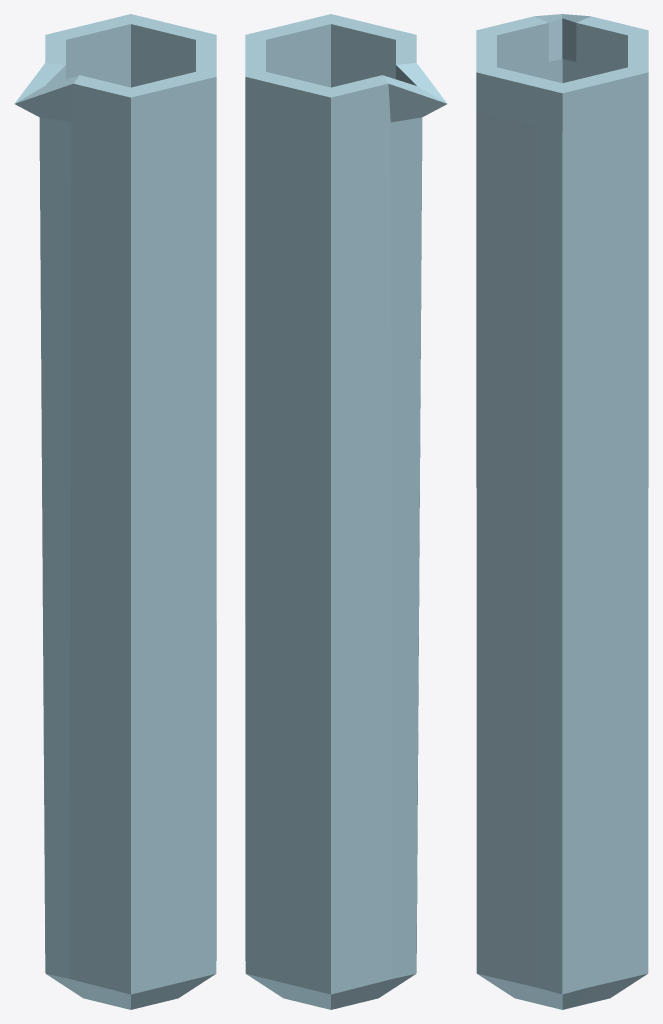
The model's file is SM_Flask_D.gltf.
The picture shows the model from 3 angles, left to right: view 1: azimuth 30°, elevation 25°; view 2: azimuth 150°, elevation 25°; view 3: azimuth 270°, elevation 25°; orthographic projection.
Parts seen in each view (by area): view 1: SM_Flask_D; view 2: SM_Flask_D; view 3: SM_Flask_D.
Part boxes in pixels (x1,y1,x2,y2): SM_Flask_D: [14, 14, 216, 1009]; SM_Flask_D: [245, 14, 447, 1009]; SM_Flask_D: [476, 14, 648, 1009].
Size of the model in its own units: 0.0373 by 0.164 by 0.0274.
Materials: 2 (1 with a texture image).
